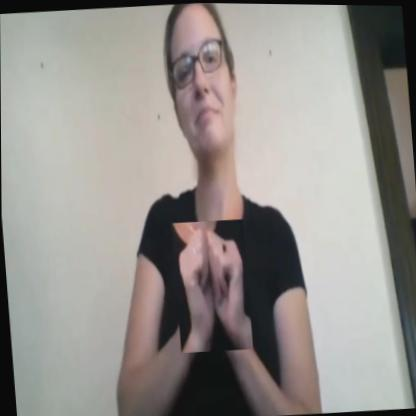HowAreYou: (171, 218, 253, 353)
